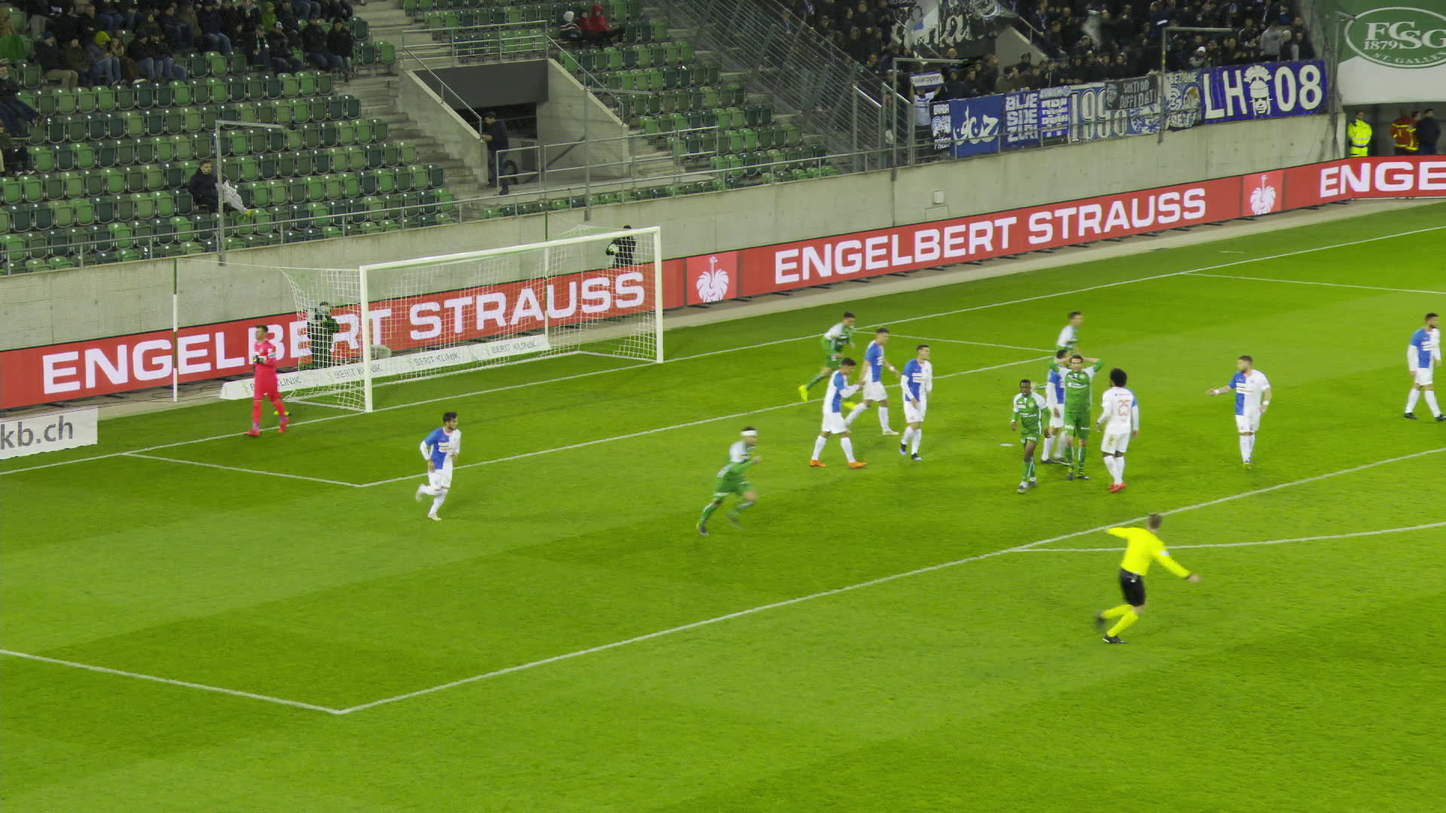player: (1204, 353, 1271, 468), (1047, 352, 1100, 480), (809, 356, 865, 468), (844, 327, 900, 436), (699, 428, 754, 537), (1092, 367, 1137, 492), (799, 312, 852, 410), (413, 408, 459, 520), (243, 324, 288, 435), (1023, 309, 1078, 397), (1010, 378, 1049, 493), (1404, 312, 1445, 419), (896, 343, 929, 460), (1038, 349, 1067, 465)
referee: (1077, 511, 1191, 643)
